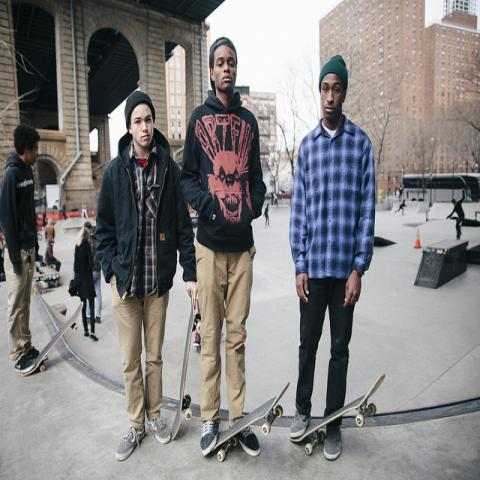bus: (401, 166, 480, 202)
car: (276, 189, 291, 199)
